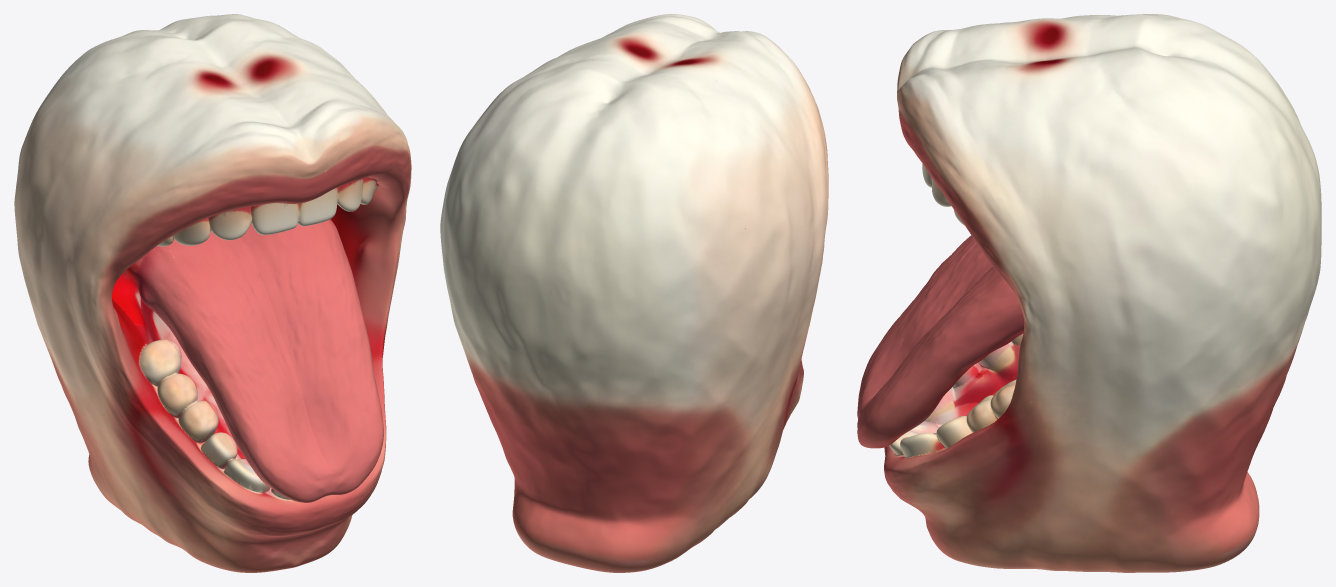
File: Level_Up_human_mouth.glb
3 views of the same model, side by side, from view 1: azimuth 30°, elevation 25°; view 2: azimuth 150°, elevation 25°; view 3: azimuth 270°, elevation 25° (orthographic). The views are drawn at different scales.
Bounding box in the file's own units: 1.42 × 1.9 × 1.59.
Materials: 1 (1 with a texture image).
